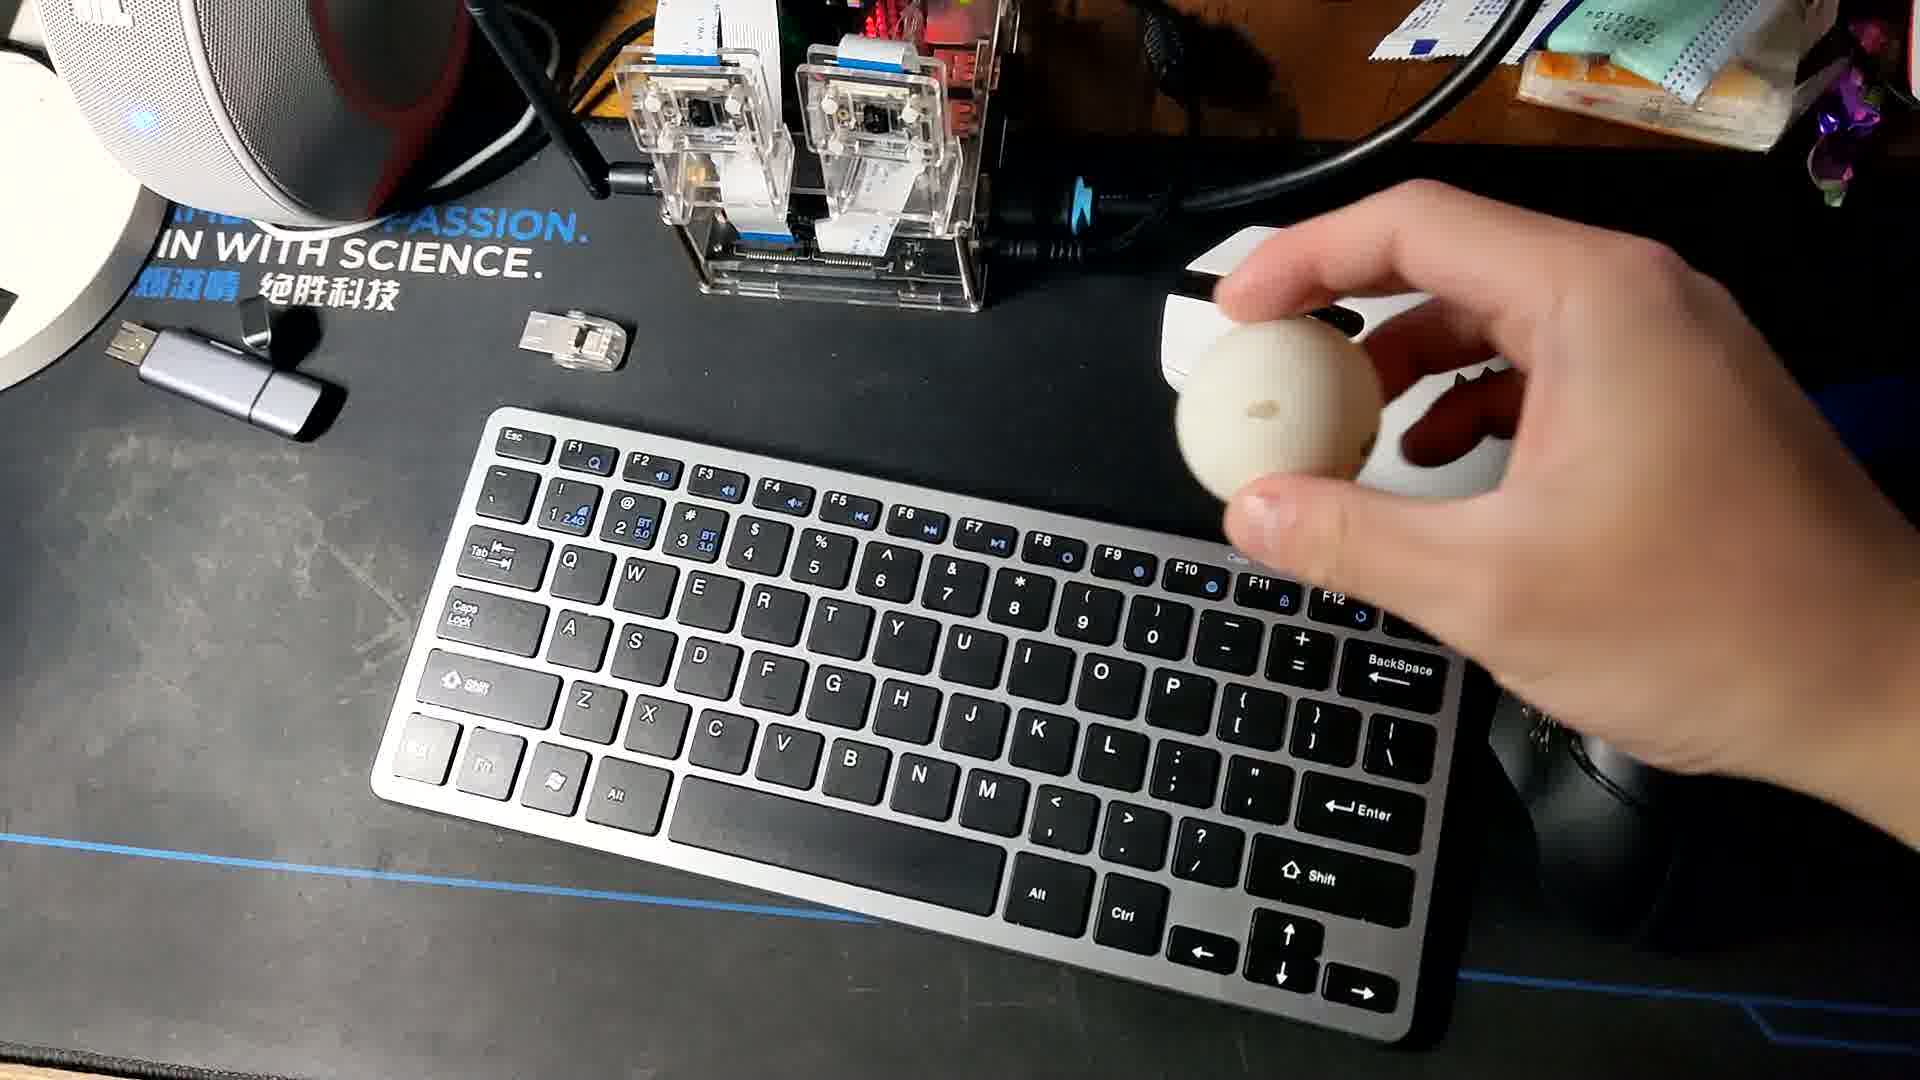Ball: (1176, 316, 1382, 529)
